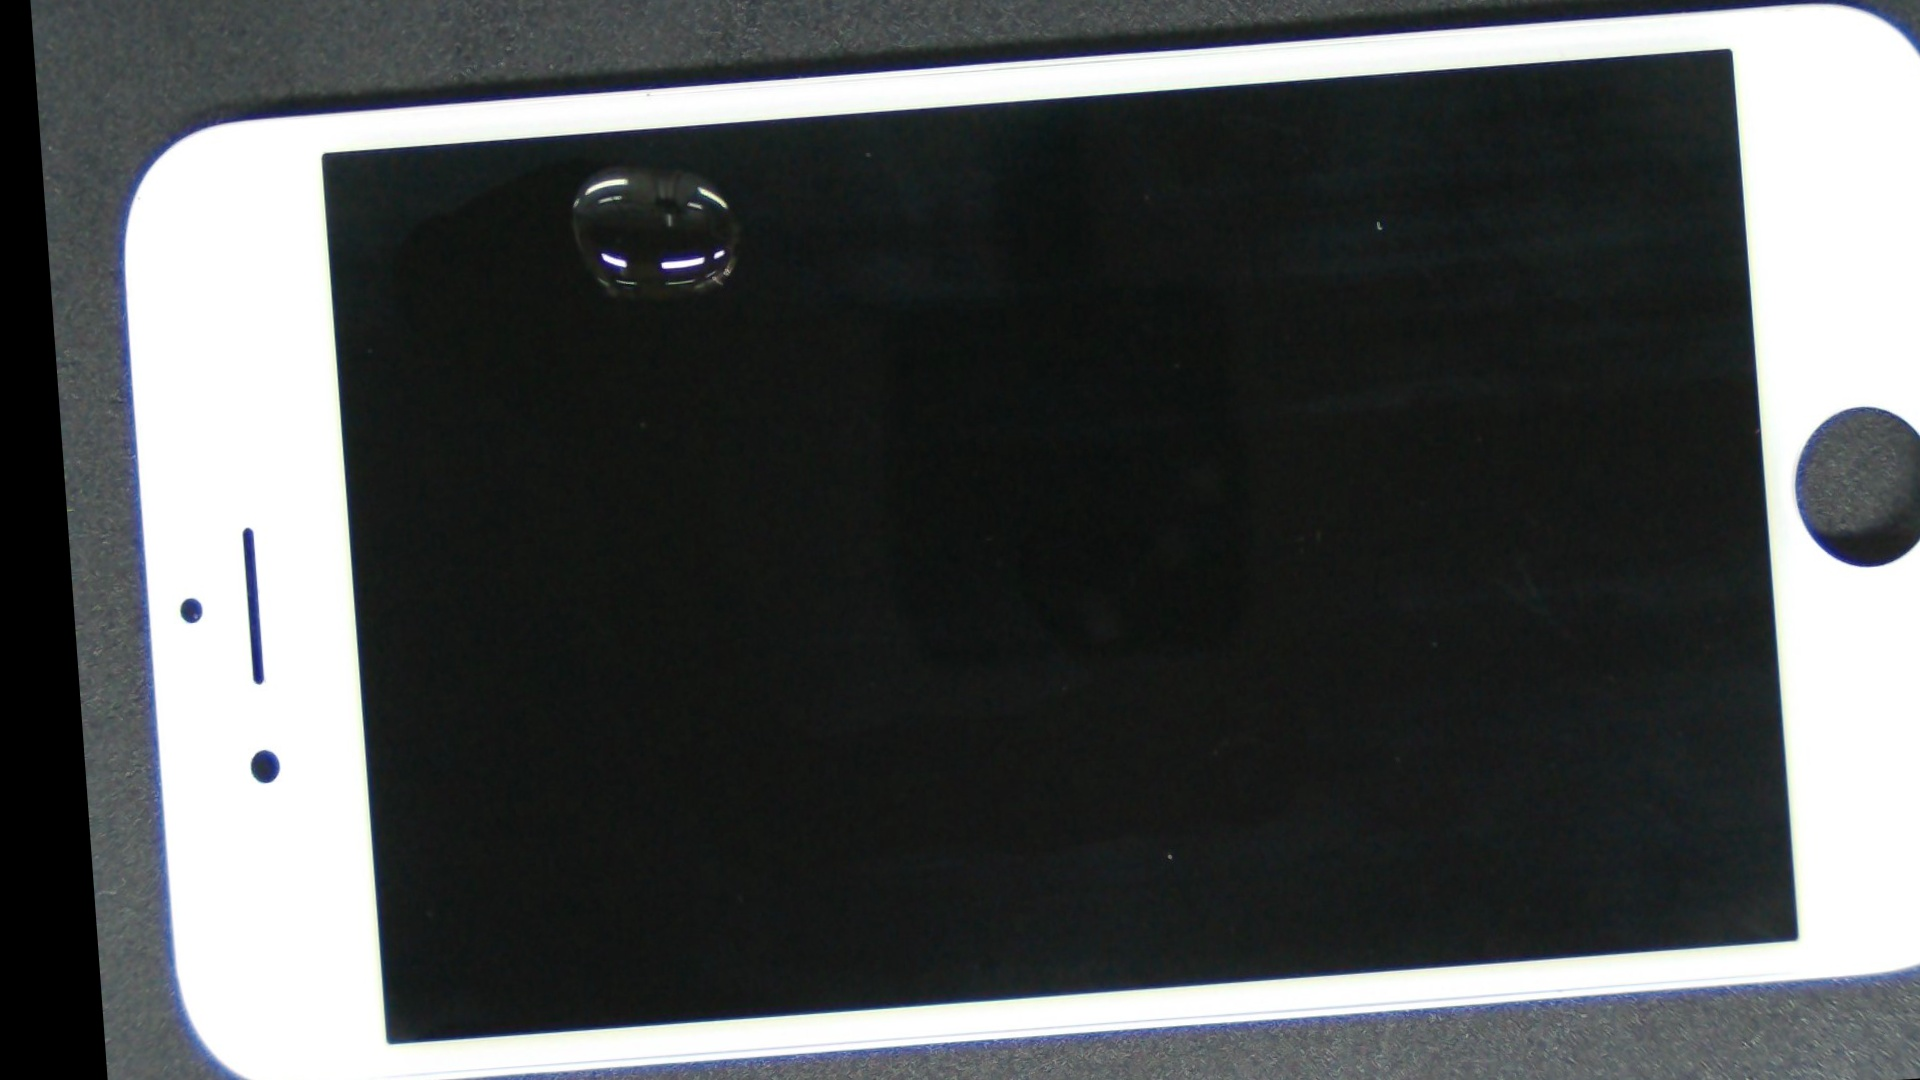oil: (319, 28, 902, 302)
